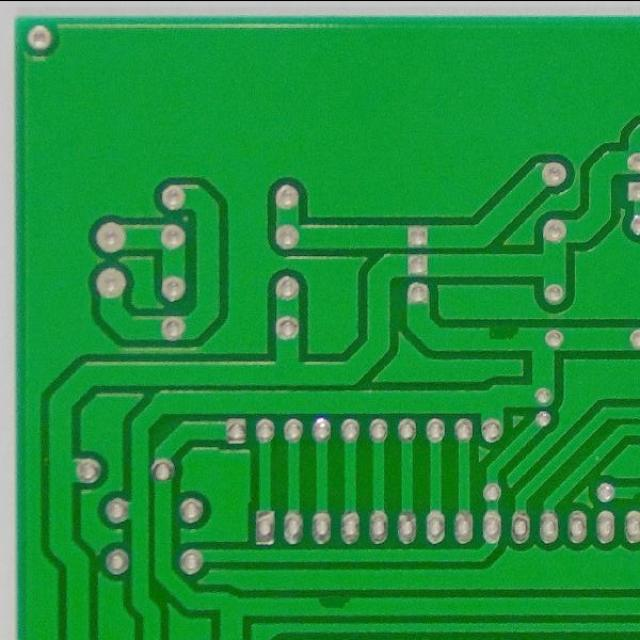MouseBite: (310, 592, 360, 611), (477, 321, 528, 339), (627, 483, 640, 504)
